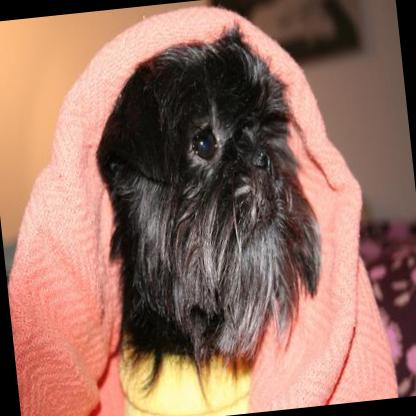affenpinscher: (84, 19, 334, 406)
